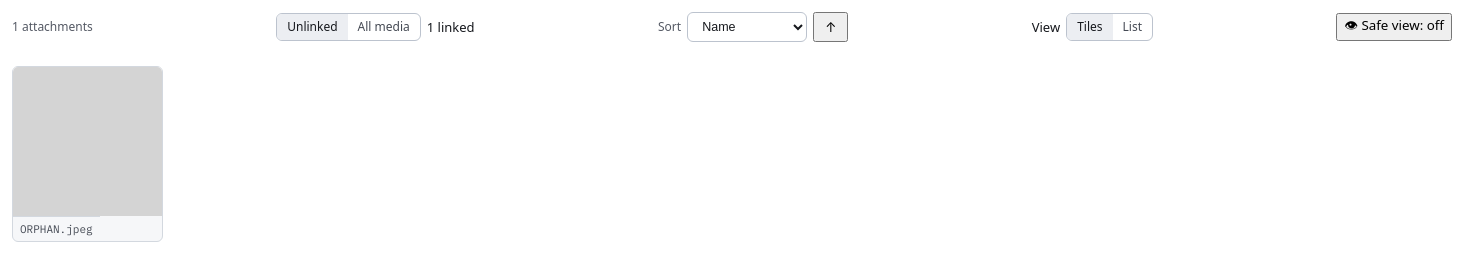
Test: ChatMediaViewer › can show every attachment, marking ones absent from the evidence
Expected: the text "ORPHAN.jpeg" is shown, [13, 216, 100, 241]
Click the button "All media" at coordinates (384, 27), box [348, 14, 420, 40]
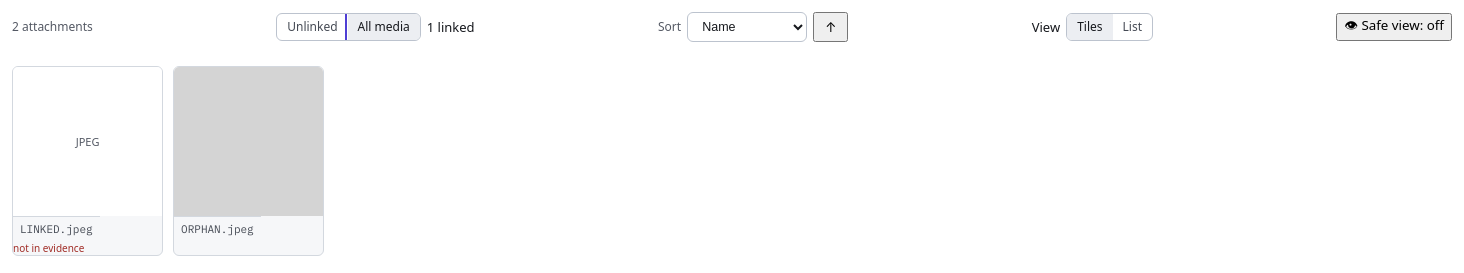
Expected: the text "not in evidence" is shown, [13, 241, 84, 255]
